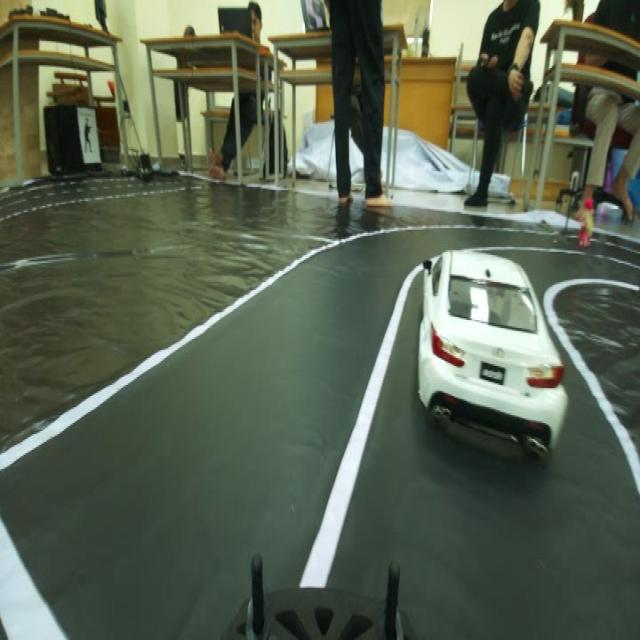car: (399, 220, 585, 485)
